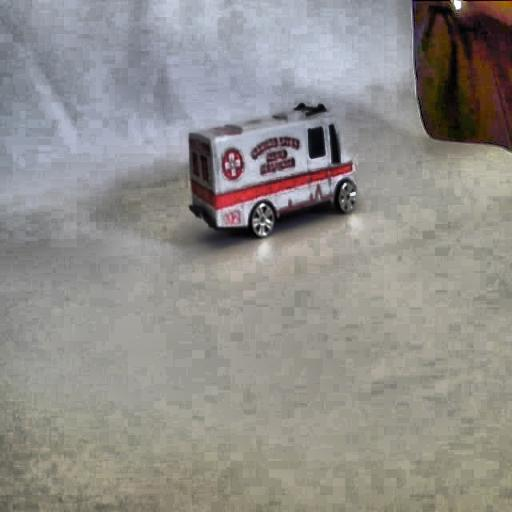ambulance: (188, 101, 357, 238)
